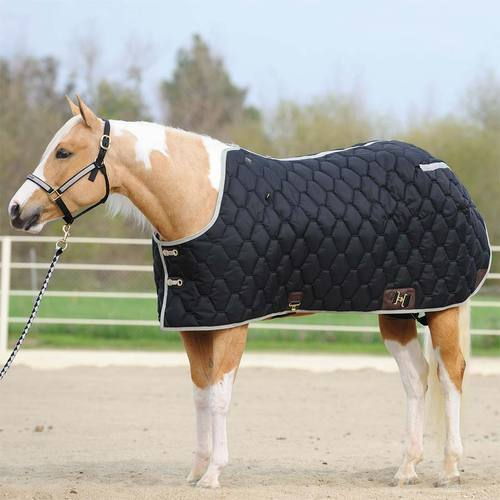Horse: (15, 69, 478, 474)
